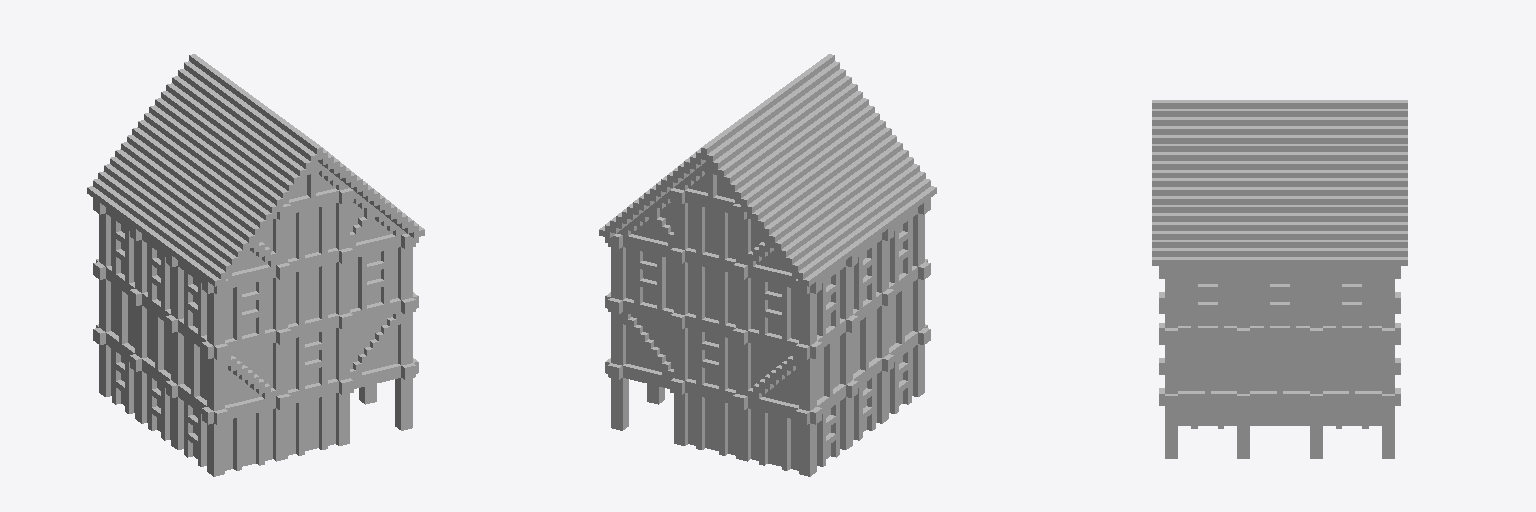
The model's file is House.obj.
3 renders of one model, left to right at view 1: azimuth 30°, elevation 25°; view 2: azimuth 150°, elevation 25°; view 3: azimuth 270°, elevation 25°, orthographic.
Size of the model in its own units: 37 by 52 by 39.